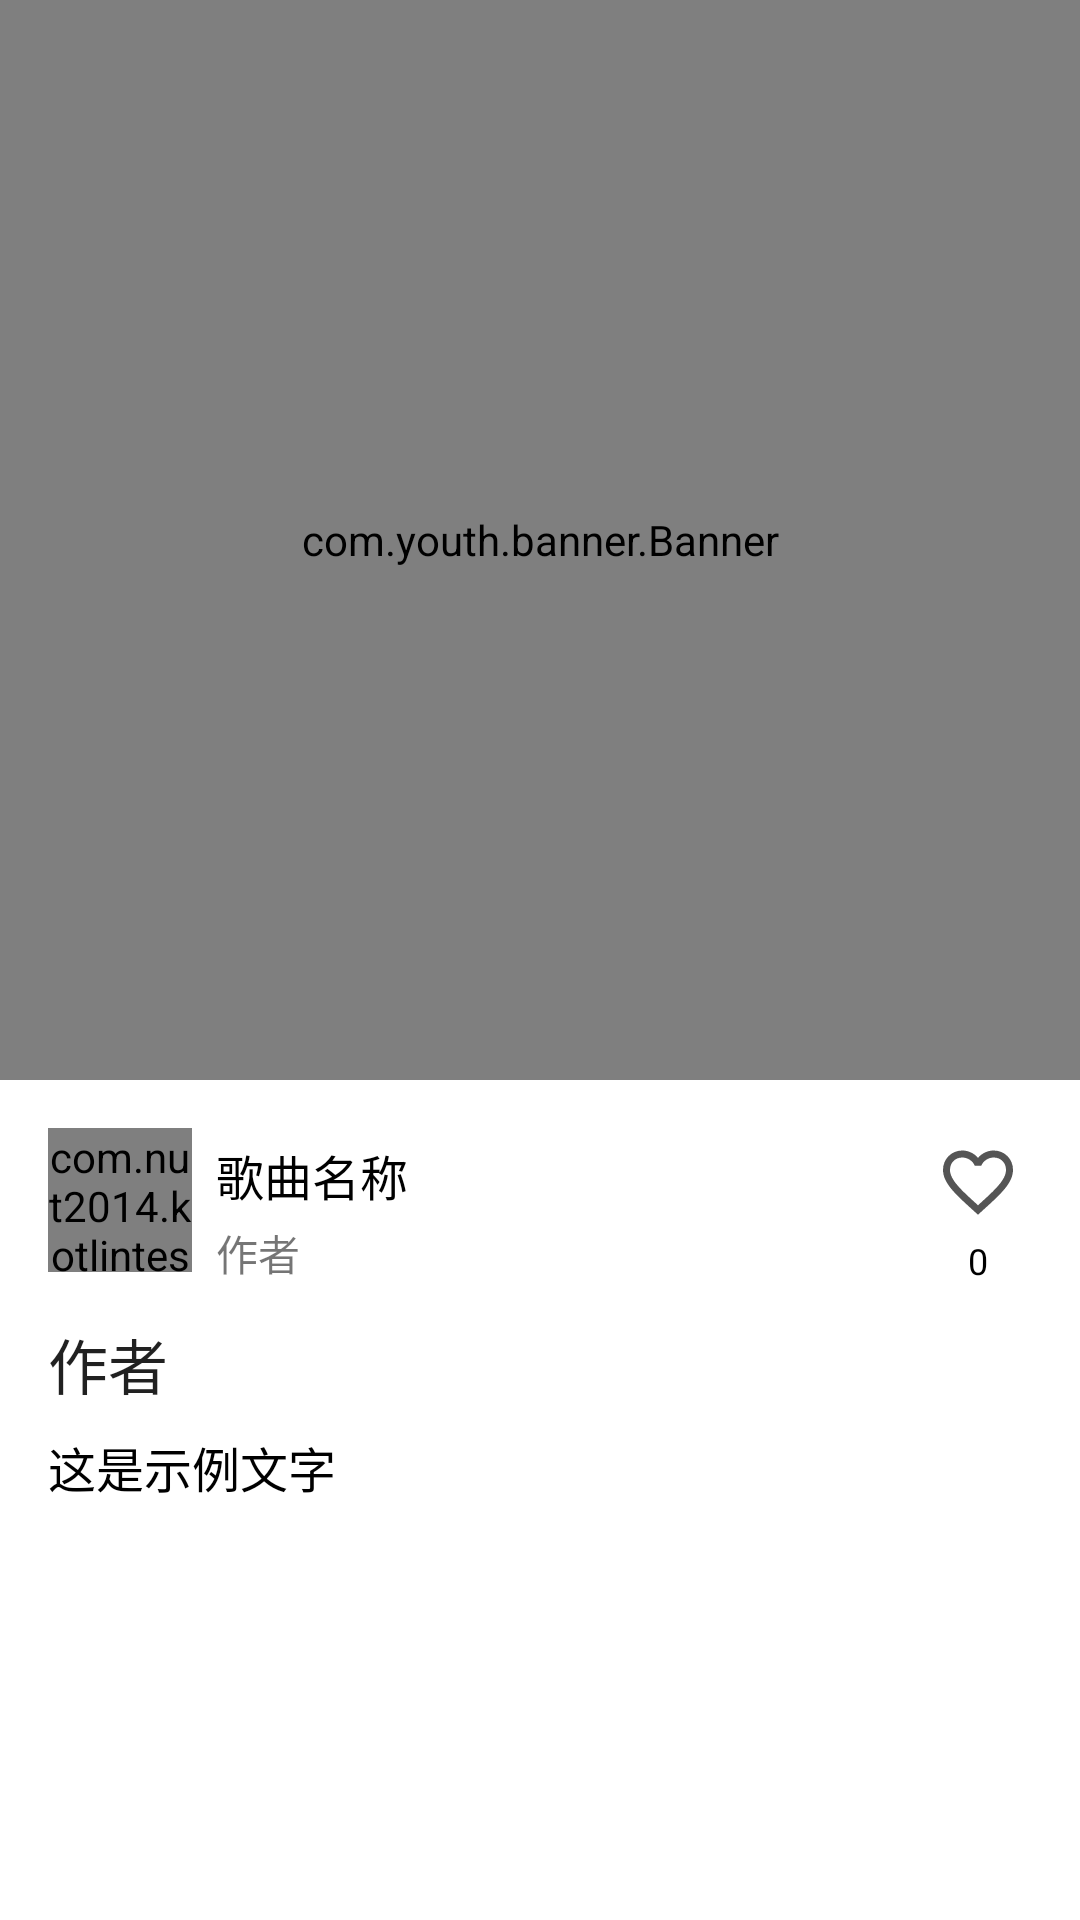

Icon bounding boxes for this 1080 × 1920 phone screenshot, format (x1, y1, x2, y2):
favorite border: (943, 1150, 1013, 1215)
